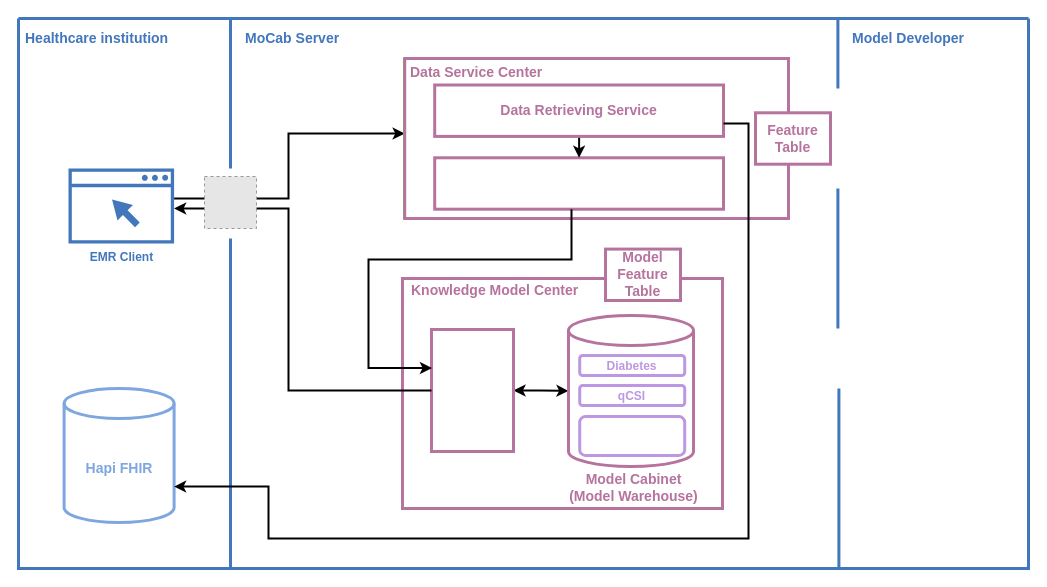
This 1047x587 diagram has some shape labels left out. Grey dashed boxes stand in for pictures. The shapes that lost their labels are listed below. From the top down, each one's centre as x and y in pixels, then its label:
At [578,183]: "Data Preprocessing Service".
At [472,390]: "Prediction Adapter".
At [632,435]: "Other prediction models".
